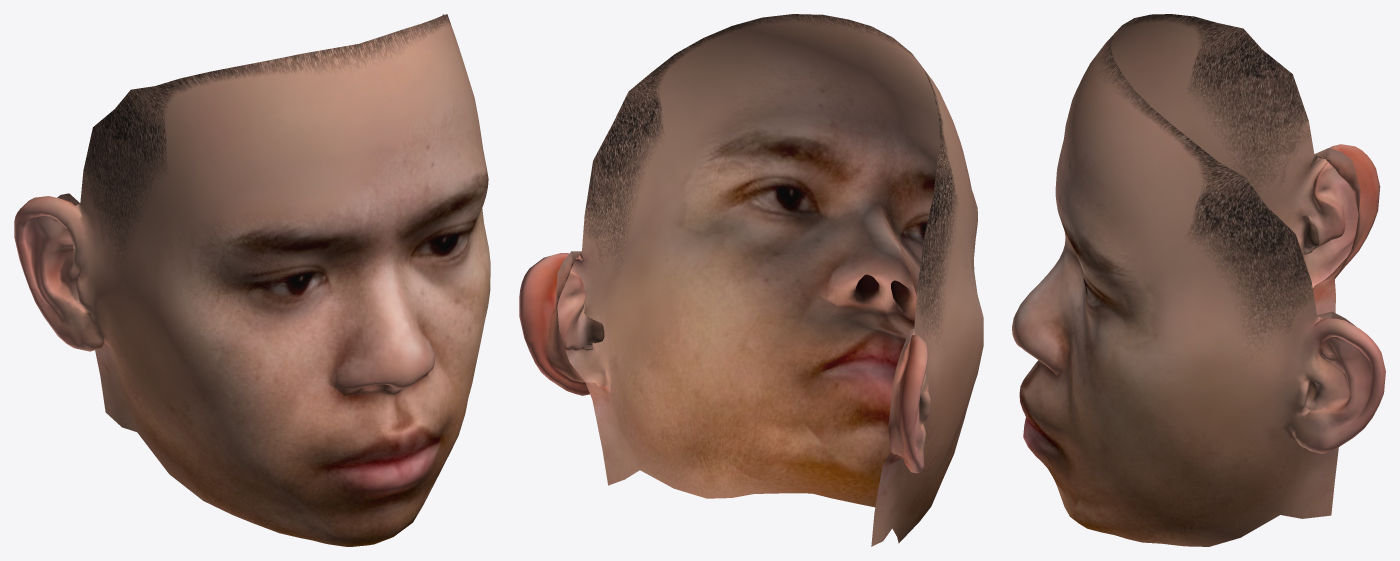
File: Rhyo_face.fbx
3 views of the same model, side by side, from view 1: azimuth 30°, elevation 25°; view 2: azimuth 150°, elevation 25°; view 3: azimuth 270°, elevation 25° (orthographic). The views are drawn at different scales.
Visible parts, largest first — view 1: avaturn_body.001; view 2: avaturn_body.001; view 3: avaturn_body.001.
Part boxes in pixels (x1,y1,x2,y2): avaturn_body.001: (14,14,490,546); avaturn_body.001: (519,14,983,546); avaturn_body.001: (1012,14,1385,546).
Size of the model in its own units: 18.16 by 21.14 by 15.05.
Materials: 1 (1 with a texture image).
